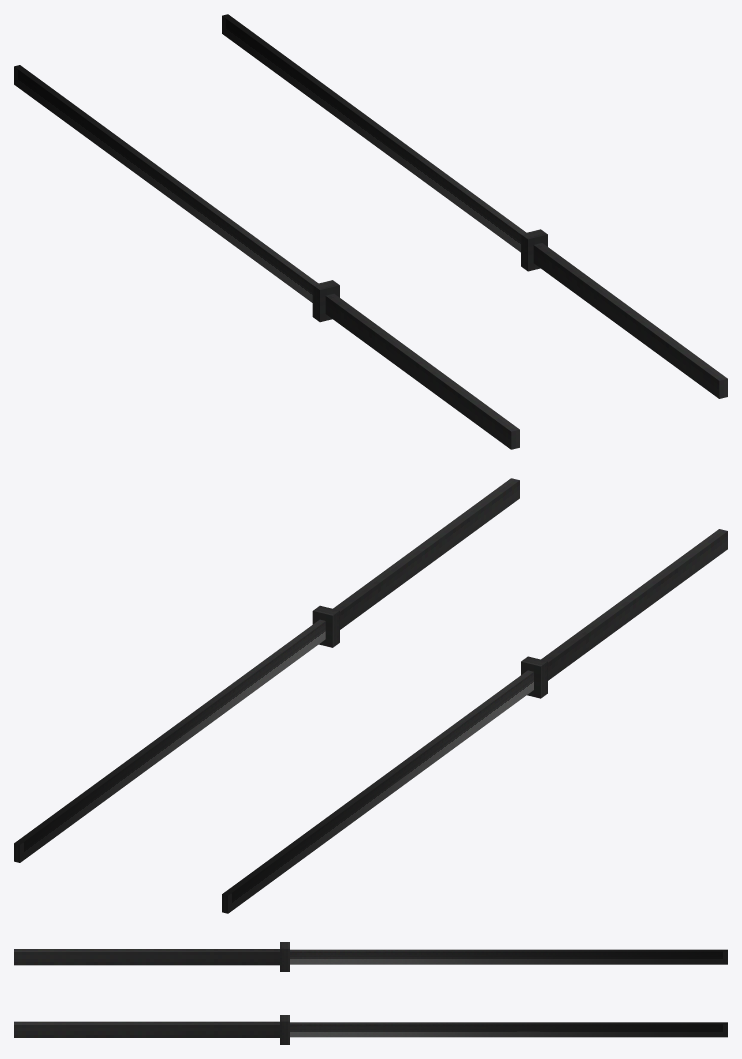
Rendered from evil_tachi.glb.
3 renders of one model, top to bottom at view 1: azimuth 30°, elevation 25°; view 2: azimuth 150°, elevation 25°; view 3: azimuth 270°, elevation 25°, orthographic. The views are drawn at different scales.
Parts seen in each view (by area): view 1: off__Tool_L, main__Tool_R; view 2: main__Tool_R, off__Tool_L; view 3: main__Tool_R, off__Tool_L.
Part boxes in pixels (box(x1,y1,x2,y2)): off__Tool_L: box(14, 65, 519, 449); main__Tool_R: box(222, 14, 727, 398); main__Tool_R: box(14, 478, 519, 862); off__Tool_L: box(222, 529, 727, 913); main__Tool_R: box(14, 1015, 727, 1044); off__Tool_L: box(14, 942, 727, 971).
Size of the model in its own units: 1.03 by 0.1385 by 3.89.
1 material, 1 textured.
